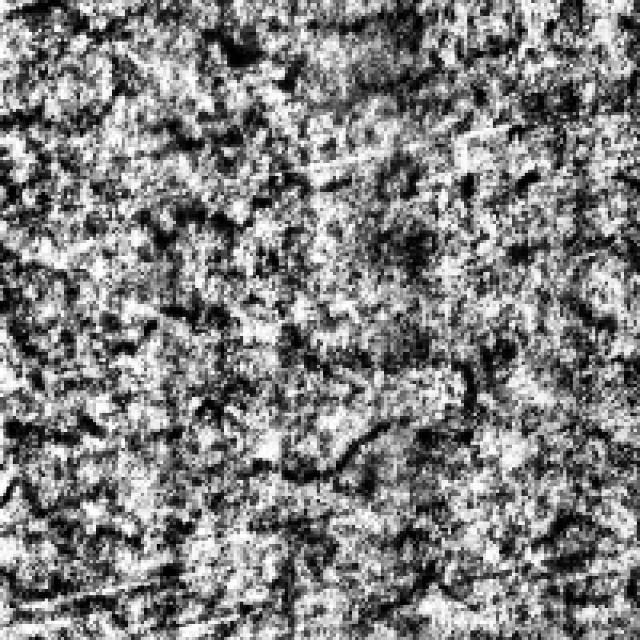Pitted_Surface: (0, 3, 502, 249), (0, 287, 477, 518)
